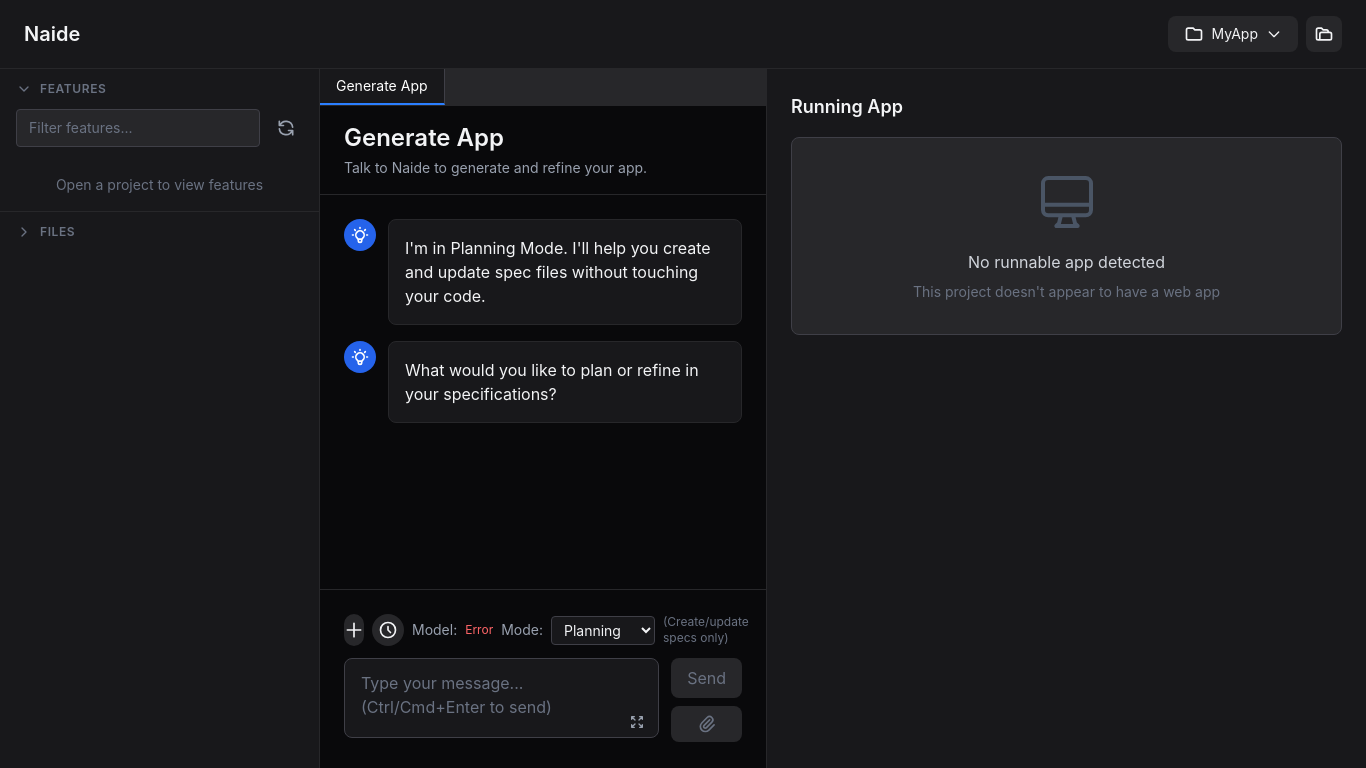
Test: GenerateAppScreen › sends message when Send button is clicked
Type a message
In the text box with placeholder "Type your message... (Ctrl/Cmd+Enter to send)": (502, 698) [344, 658, 659, 738], type "Test message"
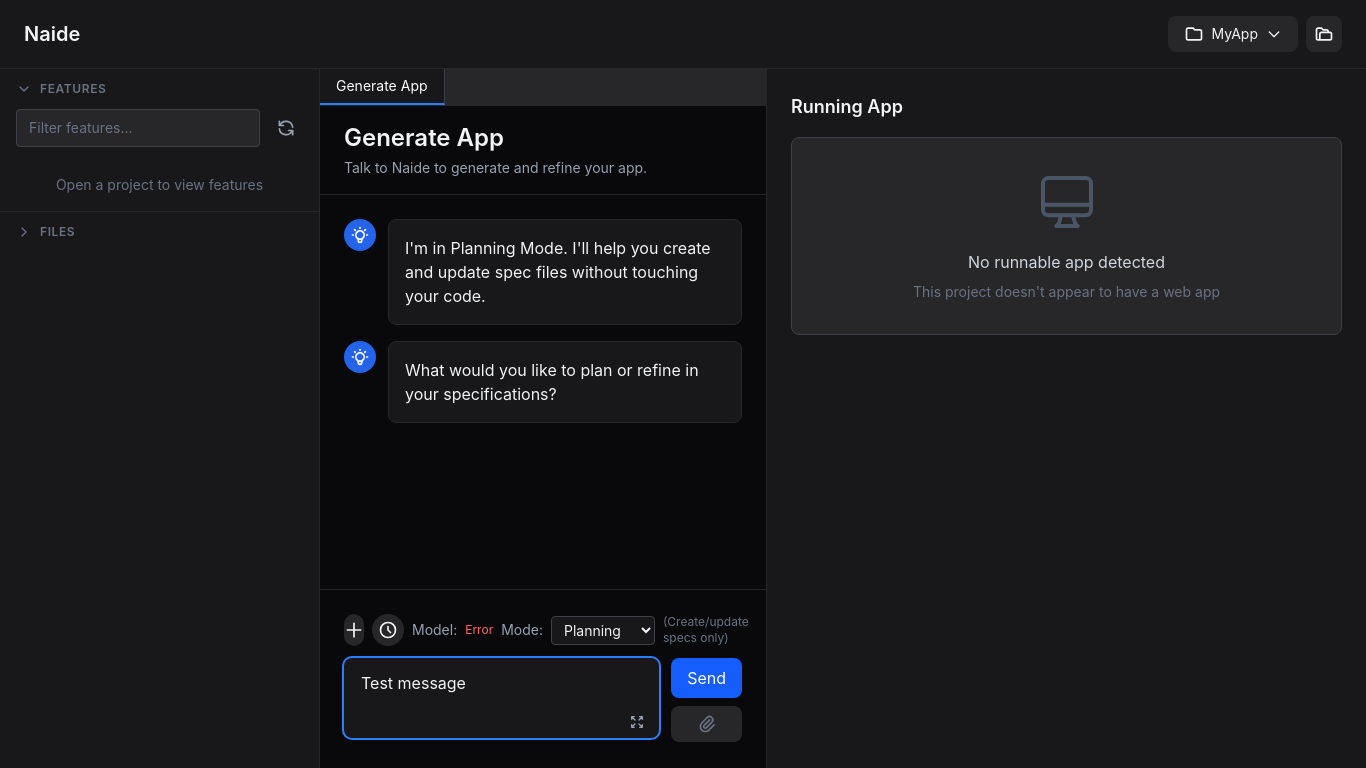
Click the button "Send": (707, 678) [671, 658, 742, 698]
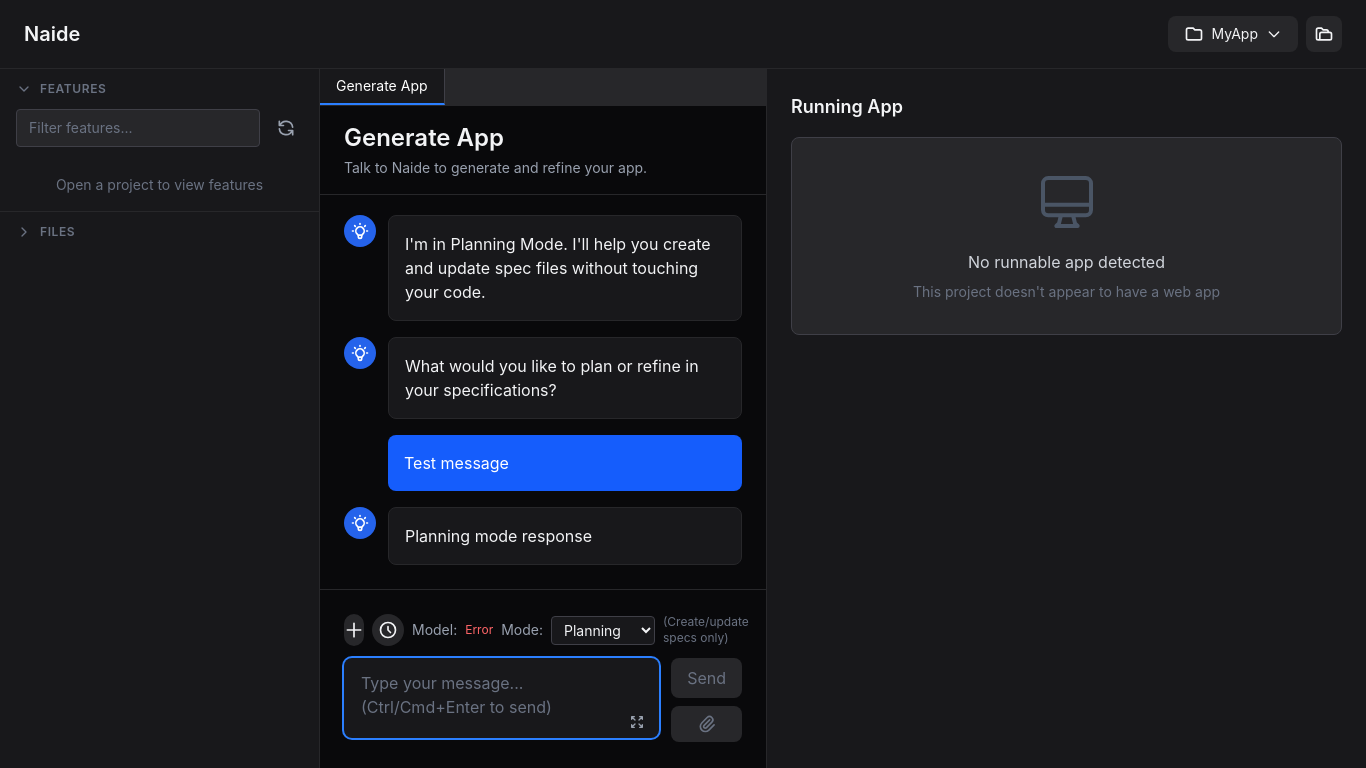
Expected: the text "Test message" is shown, [404, 453, 509, 473]
Expected: the text "Planning mode response" is shown, [405, 526, 592, 546]
